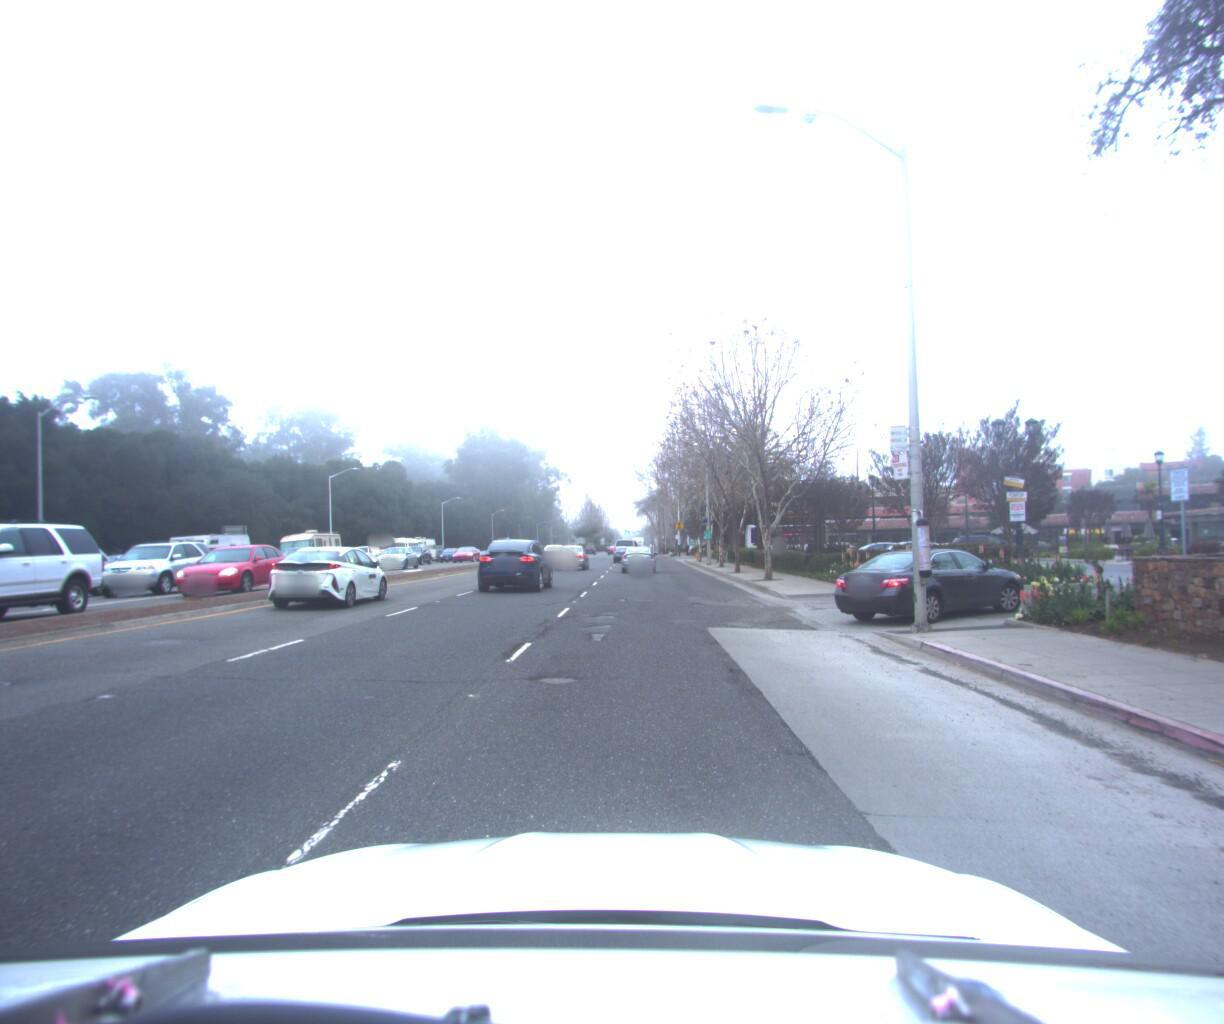car: (823, 538, 1030, 621), (0, 510, 123, 637), (247, 538, 401, 610), (85, 537, 220, 596), (165, 538, 308, 593), (470, 532, 557, 592), (363, 540, 423, 567), (551, 533, 590, 565), (618, 538, 657, 569), (345, 538, 385, 565), (541, 531, 574, 558), (607, 533, 638, 557), (454, 538, 481, 556)
other_vehicle: (161, 527, 260, 584), (272, 522, 347, 573)
truck: (742, 513, 836, 553)
